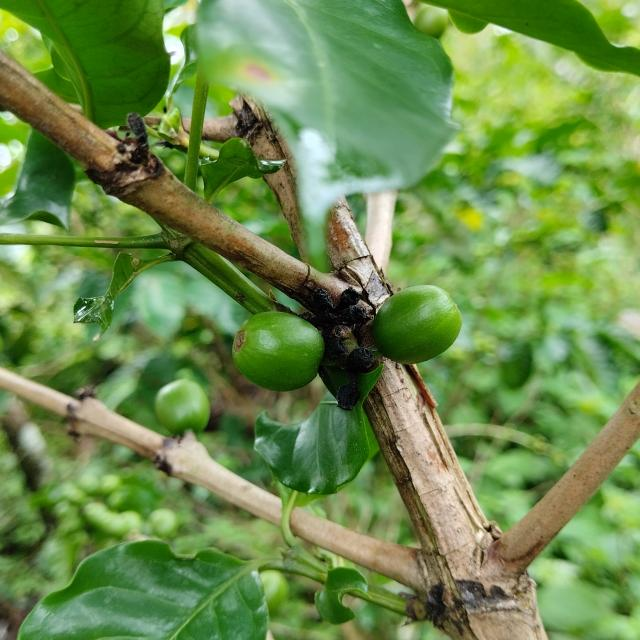green: (232, 311, 325, 392), (372, 285, 462, 364), (155, 379, 210, 436)
